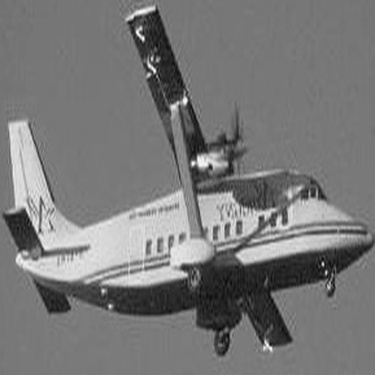airplane: (8, 2, 369, 363)
